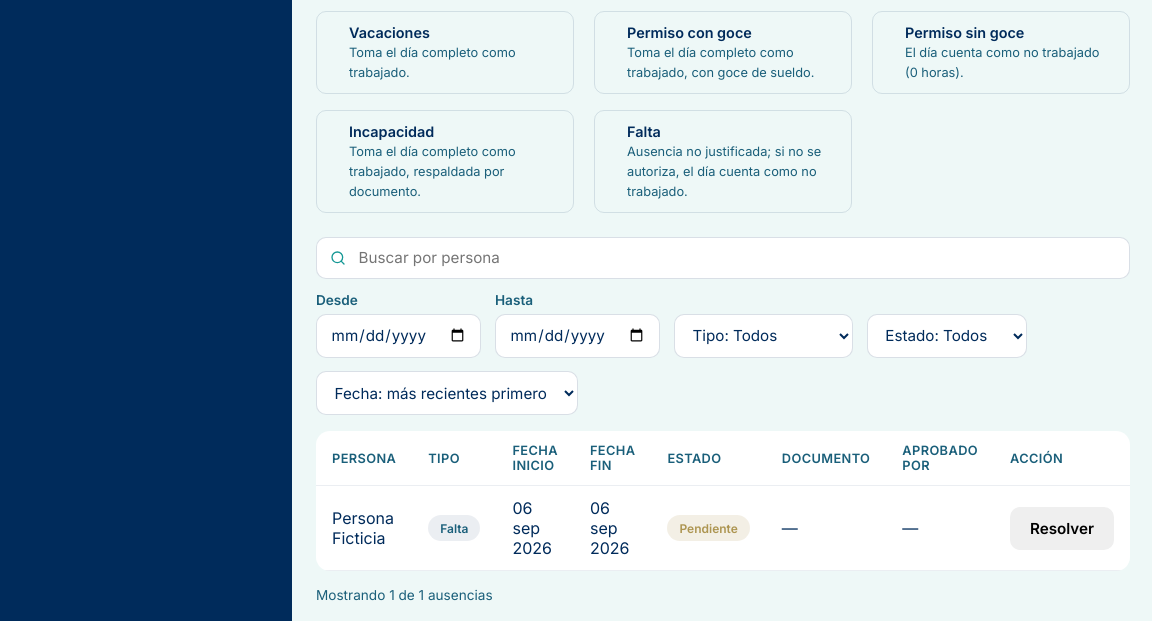
Test: BandejaAusenciasPage › muestra el error del backend si la ausencia ya fue resuelta y no cierra la fila
This screenshot has width=1152, height=621.
(page scrolled)
Expected: the text "Persona Ficticia" is shown, [316, 486, 412, 571]
Click the button "Resolver".
click(1062, 528)  # box [1010, 507, 1114, 550]
(page scrolled)
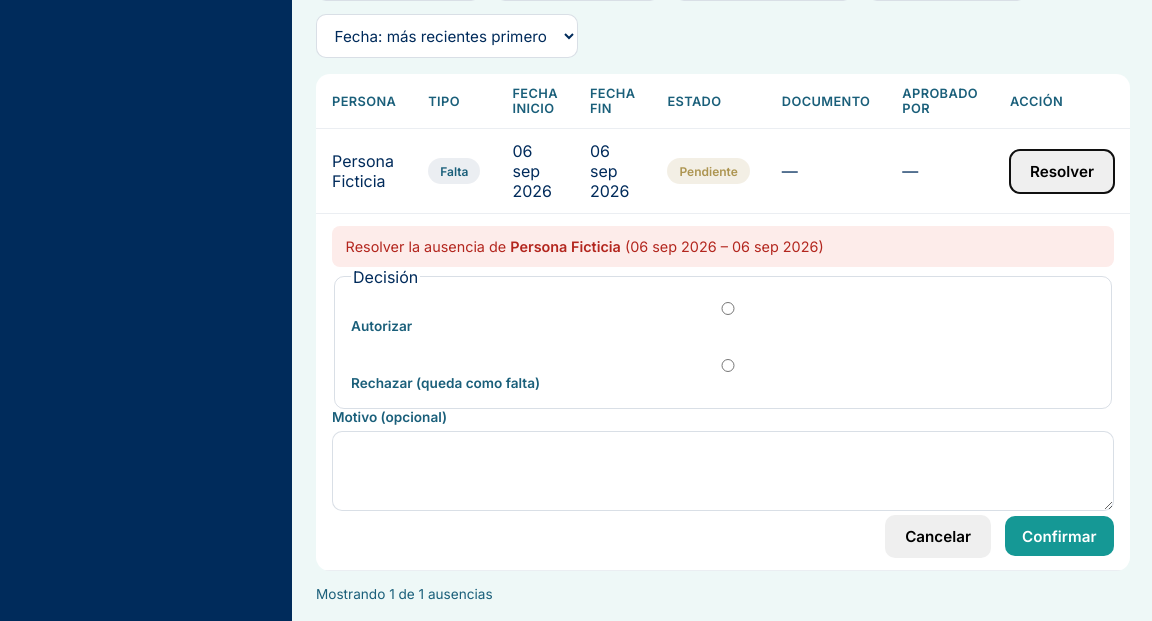
Click the radio button labelled "Rechazar (queda como falta)".
click(728, 365)  # box [356, 358, 1100, 372]
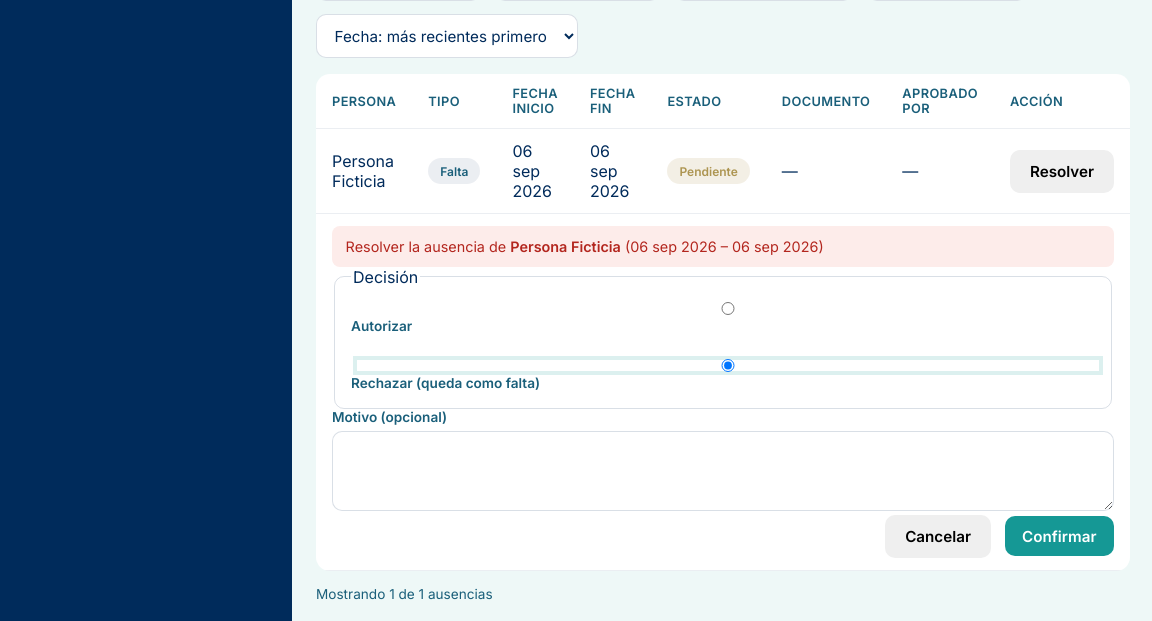
Click the button "Confirmar".
click(1059, 536)  # box [1004, 516, 1114, 556]
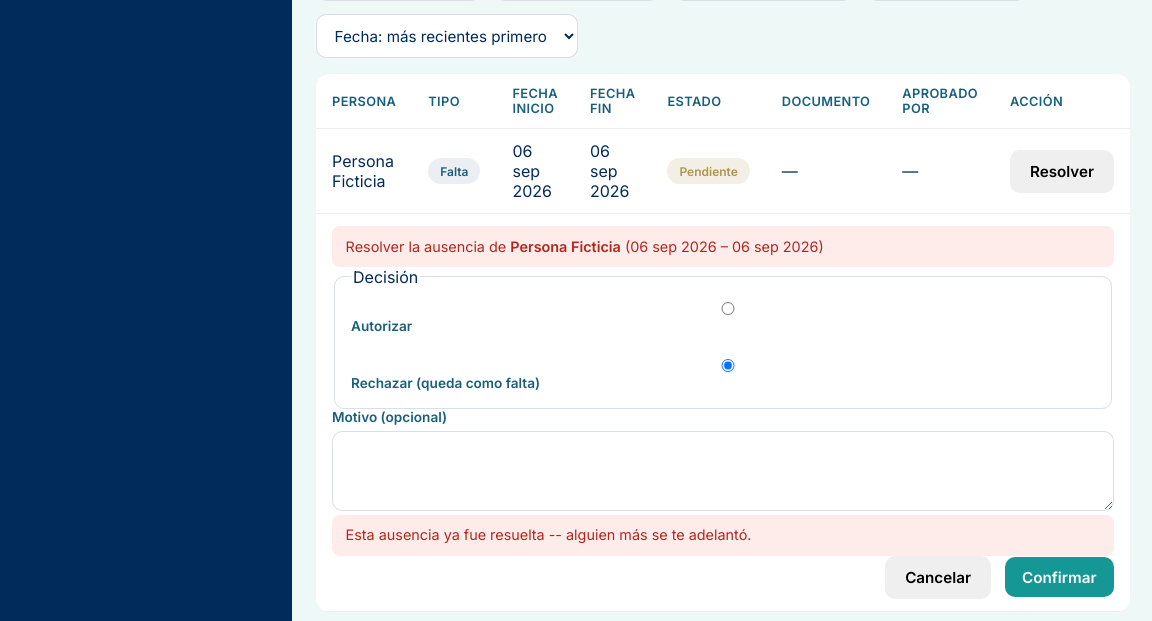
Expected: the text "Resolver la ausencia de Persona Ficticia (06 sep 2026 – 06 sep 2026)" is shown, [332, 226, 1114, 267]
Expected: the text "Esta ausencia ya fue resuelta -- alguien más se te adelantó." is shown, [332, 515, 1114, 556]
